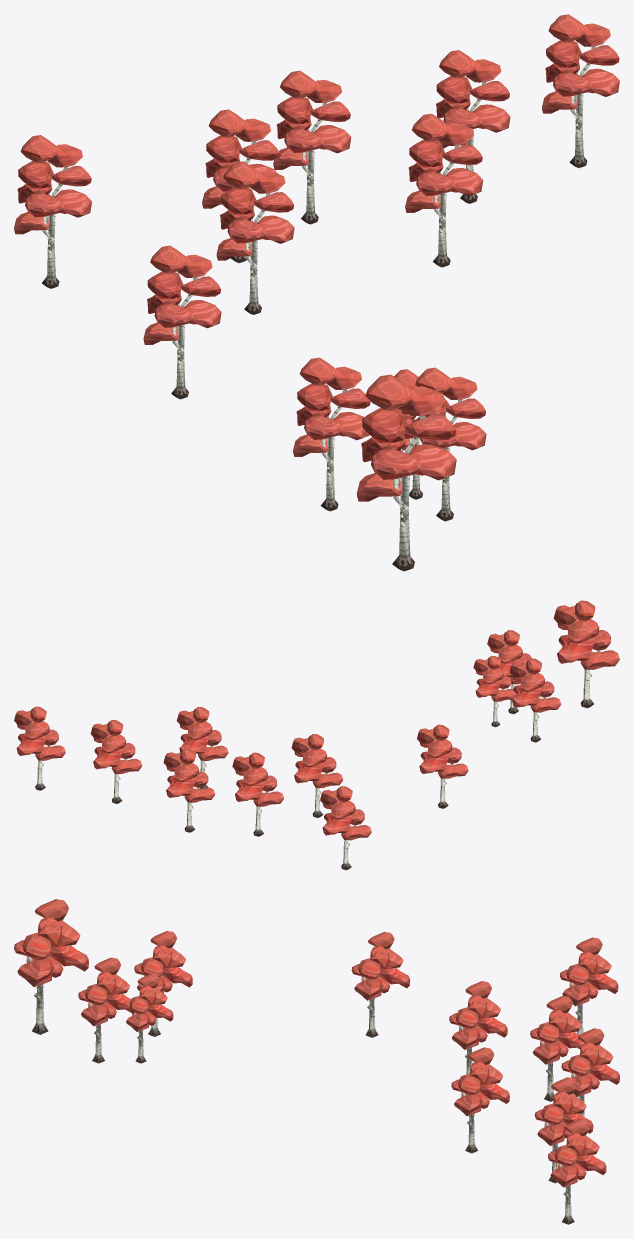
Rendered from Stylized-Tree-2.fbx.
3 renders of one model, top to bottom at view 1: azimuth 30°, elevation 25°; view 2: azimuth 150°, elevation 25°; view 3: azimuth 270°, elevation 25°, orthographic. The views are drawn at different scales.
Parts seen in each view (by area): view 1: Object_11.016, Object_11.011, Object_11.008, Object_11.007, Object_11.002, Object_11.013, Object_11.010, Object_11.005, Object_11.012, Object_11.009, Object_11, Object_11.004; view 2: Object_11.016, Object_11.002, Object_11.007, Object_11.011, Object_11.009, Object_11.010, Object_11.008, Object_11.005, Object_11.012, Object_11.013, Object_11.004, Object_11; view 3: Object_11.016, Object_11.013, Object_11.002, Object_11.007, Object_11, Object_11.009, Object_11.011, Object_11.008, Object_11.010, Object_11.012, Object_11.005, Object_11.004.
Part boxes in pixels (x1,y1,x2,y2): Object_11.016: (357,374,456,571); Object_11.011: (14,135,91,288); Object_11.008: (216,161,294,314); Object_11.007: (143,245,221,399); Object_11.002: (542,14,619,168); Object_11.013: (405,113,483,267); Object_11.010: (273,70,351,224); Object_11.005: (293,357,370,511); Object_11.012: (436,50,510,203); Object_11.009: (202,109,279,263); Object_11: (410,367,486,521); Object_11.004: (394,369,449,499); Object_11.016: (553,600,619,708); Object_11.002: (14,706,65,790); Object_11.007: (417,724,468,808); Object_11.011: (320,786,371,870); Object_11.009: (232,752,283,836); Object_11.010: (163,748,215,832); Object_11.008: (291,734,343,818); Object_11.005: (509,658,561,742); Object_11.012: (90,720,142,804); Object_11.013: (176,706,228,788); Object_11.004: (473,655,516,727); Object_11: (487,630,531,714); Object_11.016: (14,899,88,1034); Object_11.013: (451,1047,509,1153); Object_11.002: (548,1118,606,1224); Object_11.007: (351,932,410,1037); Object_11: (78,957,134,1063); Object_11.009: (530,996,584,1101); Object_11.011: (560,937,618,1035); Object_11.008: (449,981,507,1074); Object_11.010: (561,1028,619,1116); Object_11.012: (534,1077,593,1183); Object_11.005: (134,931,192,1036); Object_11.004: (126,973,173,1063).
Bounding box in the file's own units: 1481 × 420 × 1715.
Materials: 1 (1 with a texture image).
